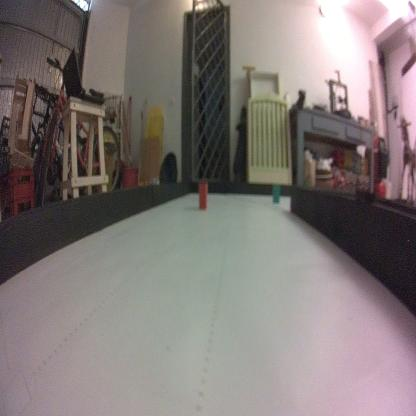green: (272, 182, 281, 205)
red: (198, 181, 208, 212)
